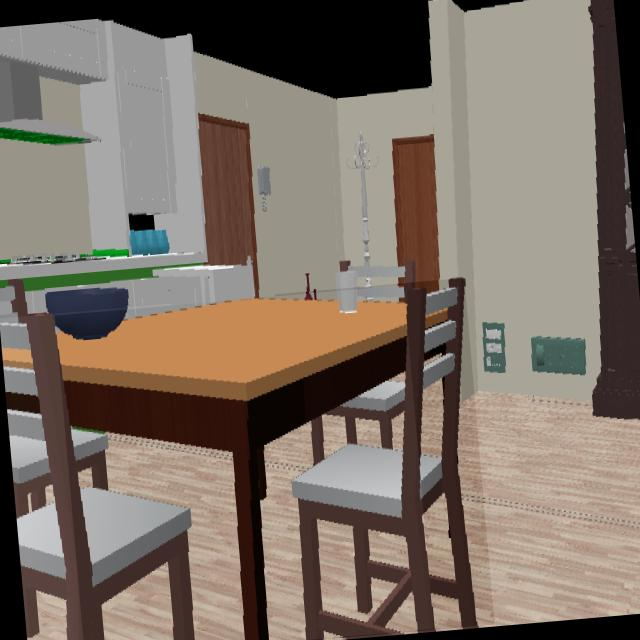cabinet: (0, 19, 177, 246)
chair: (291, 278, 477, 640), (0, 315, 194, 640)
table: (58, 299, 406, 640)
